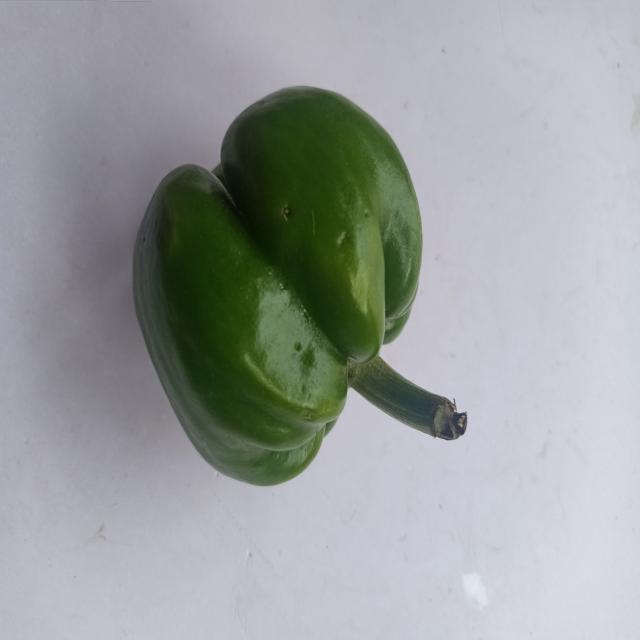Capsicum: (125, 64, 482, 516)
